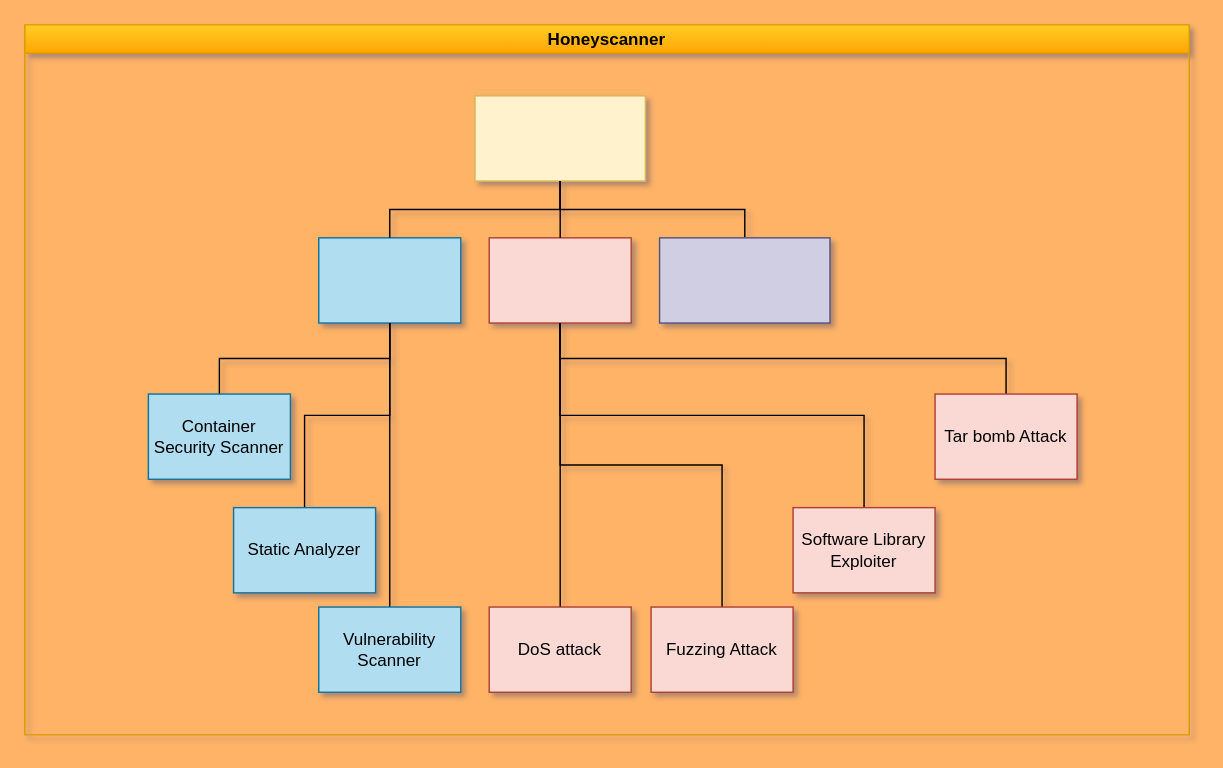
Some shapes in this 1223 by 768 pixel diagram are drawn without their labels. The shapes that lost their labels are listed below. From the top down, each one's centre as x and y in pixels, then its label:
point (559, 137): Honeyscanner Core
point (389, 279): Passive Attacks
point (559, 279): Active Attacks
point (744, 279): Report Generator
